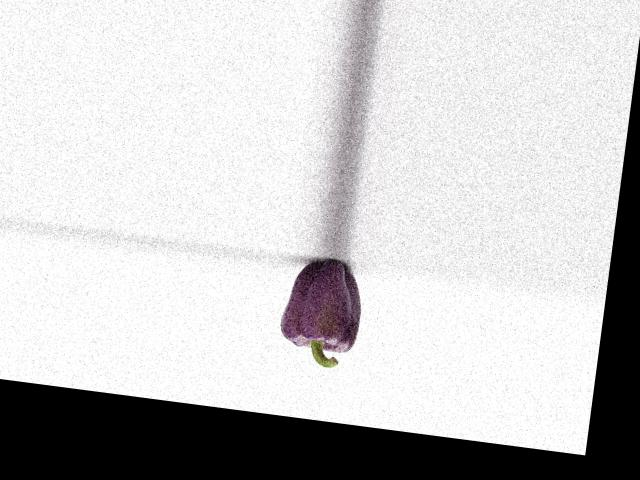bell_pepper: (270, 255, 375, 370)
